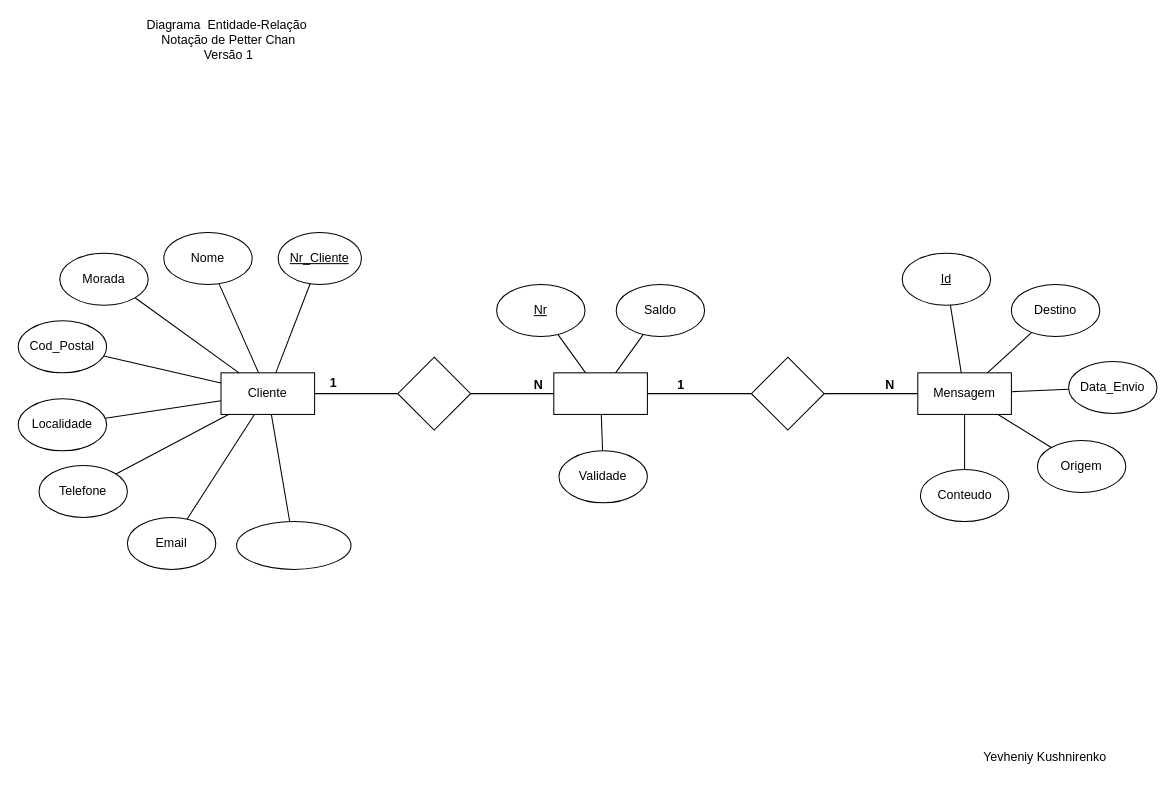
This 1175x791 diagram has some shape labels left out. Here are the shapes that lost their labels. From the top down, the box of each, then its label:
(397, 356, 471, 430): Tem
(553, 372, 647, 414): Cartão
(750, 356, 824, 430): Envia/ Recebe
(236, 521, 351, 569): Nr_contribuinte
